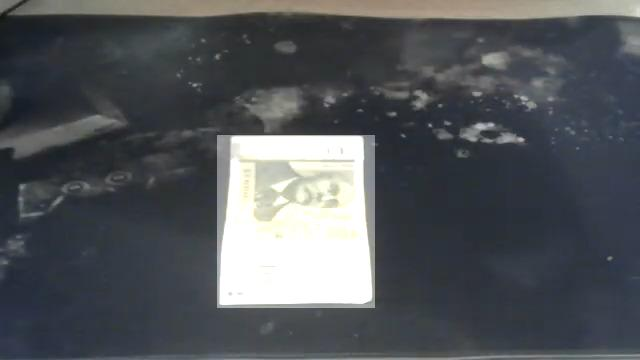10leva: (217, 135, 375, 308)
